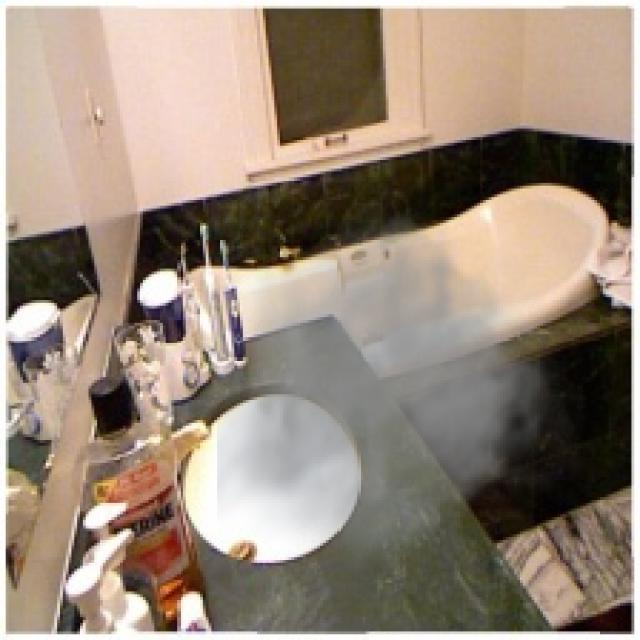Smoke: (217, 197, 589, 586)
